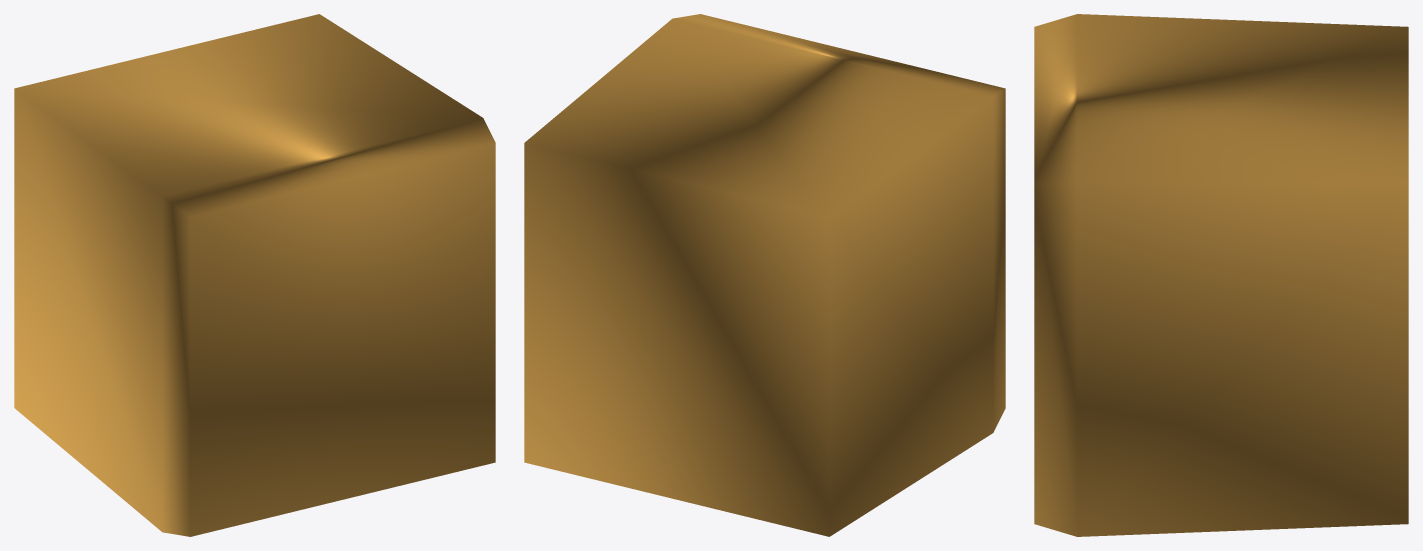
The model's file is CubeOrangeLow.fbx.
3 renders of one model, left to right at view 1: azimuth 30°, elevation 25°; view 2: azimuth 150°, elevation 25°; view 3: azimuth 270°, elevation 25°, orthographic. The views are drawn at different scales.
Parts seen in each view (by area): view 1: pCube1; view 2: pCube1; view 3: pCube1.
Part boxes in pixels (x1,y1,x2,y2): pCube1: [14, 14, 495, 536]; pCube1: [524, 14, 1005, 536]; pCube1: [1034, 14, 1408, 536].
Bounding box in the file's own units: 2.63 × 2.63 × 2.5.
